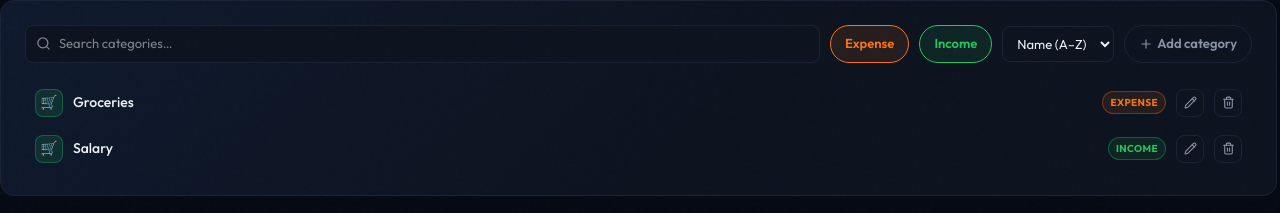
Test: CategoryExplorer › filters by search text
The image size is (1280, 213).
Type "sal" into the field labelled "Search categories".
click(434, 44); type("sal")  # box [59,34,809,54]
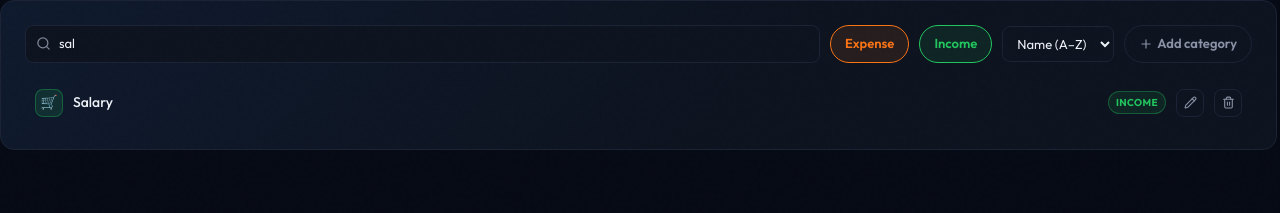
Expected: the text "Salary" is shown, [73,93,113,111]
Expected: the text "Groceries" is gone
